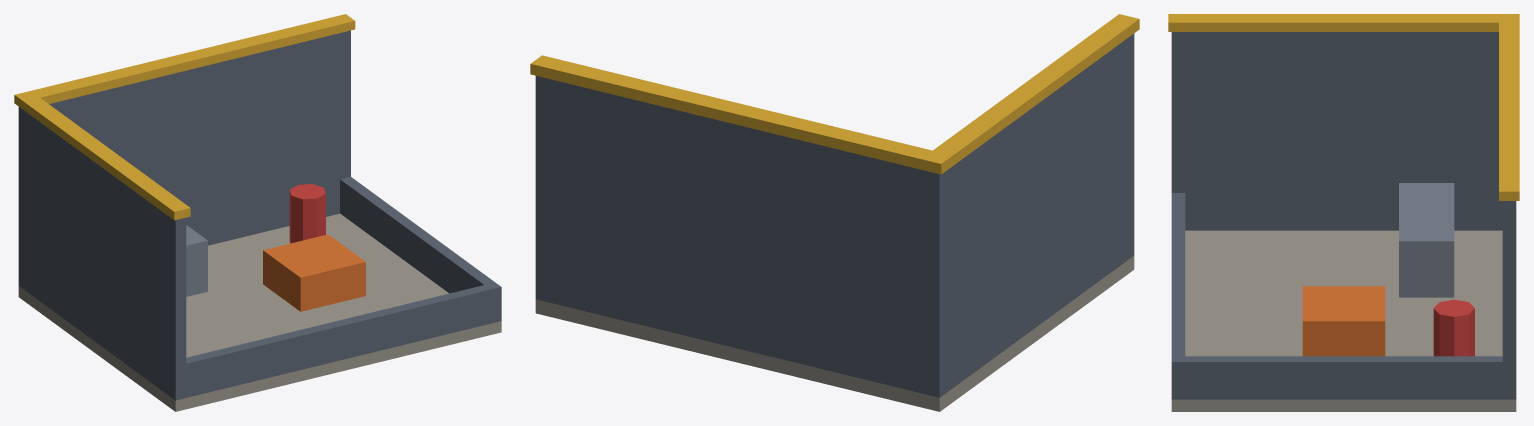
Rendered from workshop.glb.
3 renders of one model, left to right at view 1: azimuth 30°, elevation 25°; view 2: azimuth 150°, elevation 25°; view 3: azimuth 270°, elevation 25°, orthographic. The views are drawn at different scales.
Parts seen in each view (by area): view 1: workshop; view 2: workshop; view 3: workshop.
Boxes of the visible parts, box(x1,y1,x2,y2) form: workshop: box(14, 14, 501, 411); workshop: box(530, 14, 1139, 411); workshop: box(1168, 14, 1519, 411).
Bounding box in the file's own units: 6.1 × 3.55 × 5.1.
